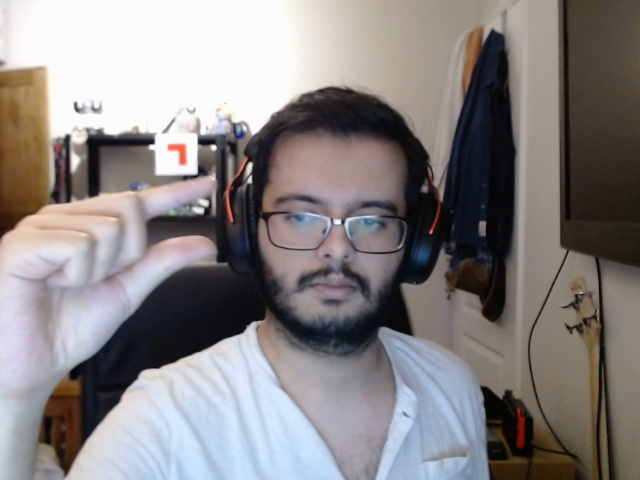Small: (1, 159, 231, 442)
